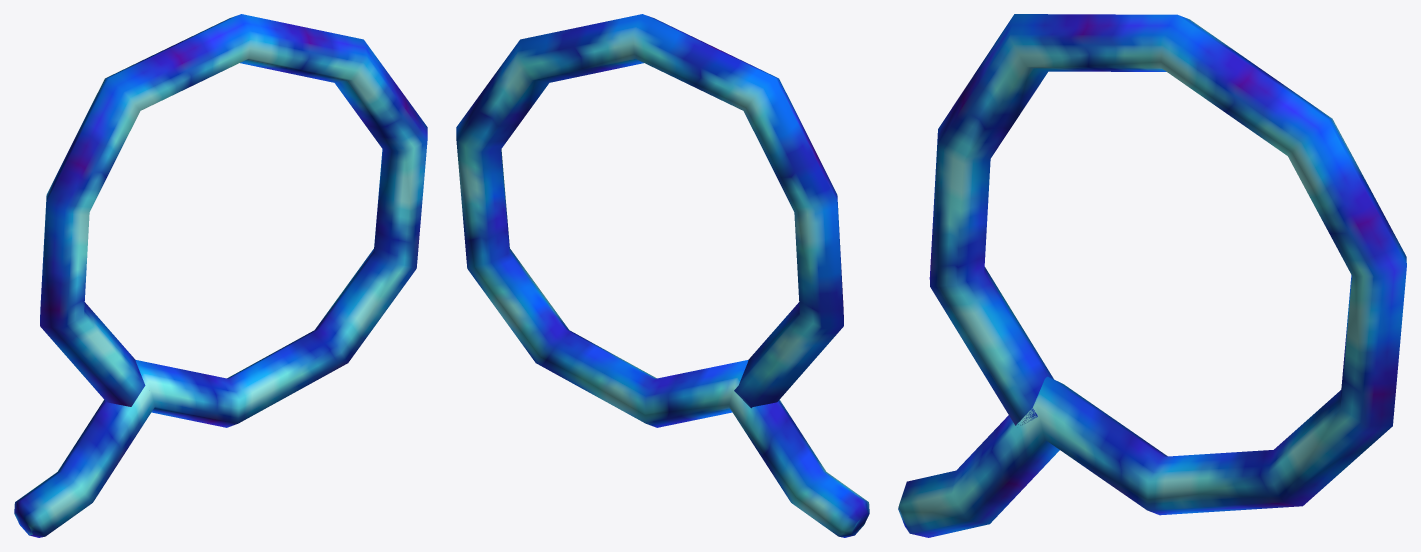
The model's file is furni_0200174.FBX.
3 renders of one model, left to right at view 1: azimuth 30°, elevation 25°; view 2: azimuth 150°, elevation 25°; view 3: azimuth 330°, elevation 25°, orthographic. The views are drawn at different scales.
Parts seen in each view (by area): view 1: furni_0200174; view 2: furni_0200174; view 3: furni_0200174.
Part boxes in pixels (<box>): furni_0200174: <box>14,14,427,537</box>; furni_0200174: <box>456,14,869,537</box>; furni_0200174: <box>898,14,1406,537</box>.
Size of the model in its own units: 56.6 by 62.66 by 5.2.
